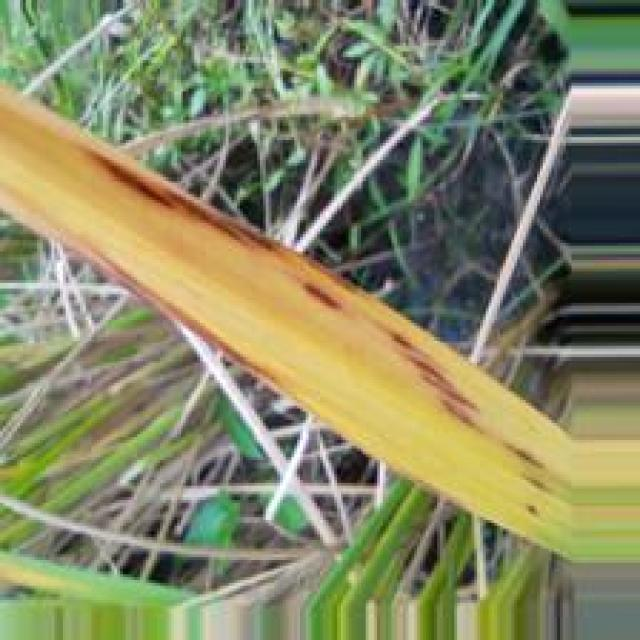Narrow_Brown_Leaf_Spot: (74, 132, 549, 545), (43, 225, 325, 420)
